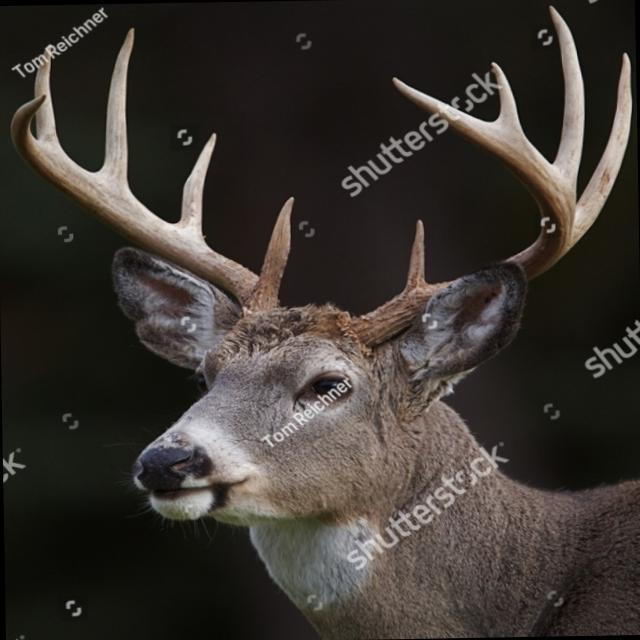E1: (490, 61, 522, 134)
L-G1: (401, 218, 436, 293)
L-G2: (571, 52, 632, 246)
L-G3: (548, 4, 585, 193)
R-G1: (258, 195, 295, 295)
R-G2: (172, 131, 217, 245)
R-G3: (94, 26, 135, 194)
R-G4: (34, 44, 66, 155)
